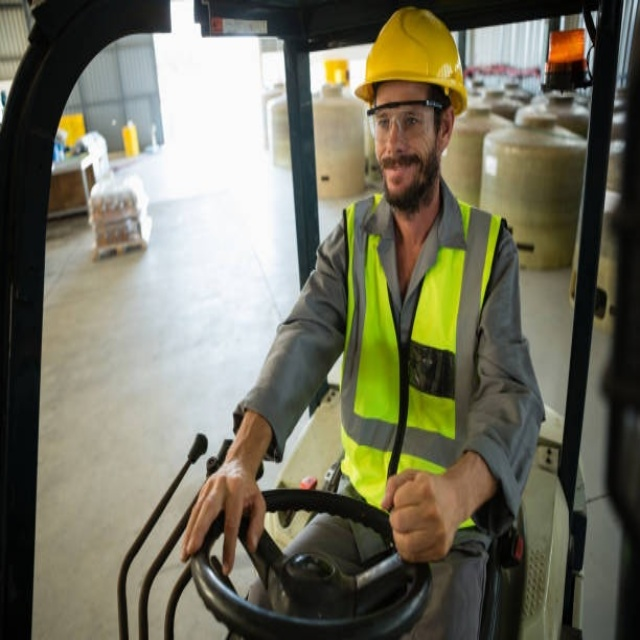Gafas: (368, 98, 446, 131)
Sin_guantes: (182, 455, 265, 575), (385, 467, 450, 562)
Sin_mascara: (380, 152, 419, 196)
